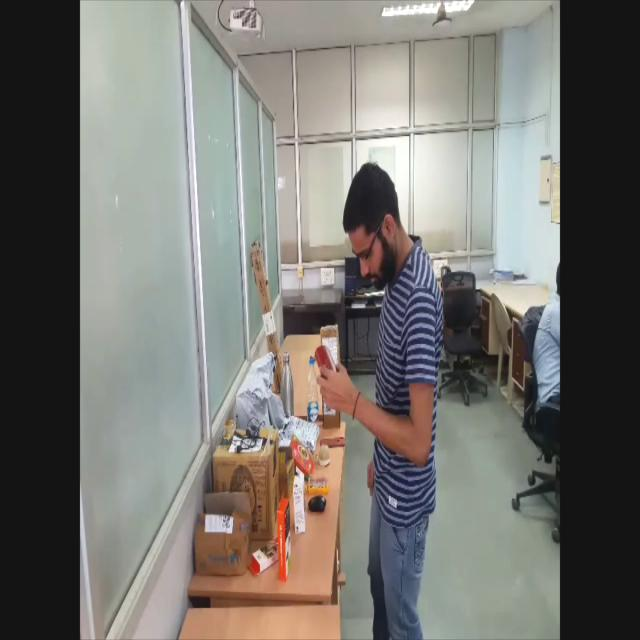normal: (312, 146, 450, 639)
